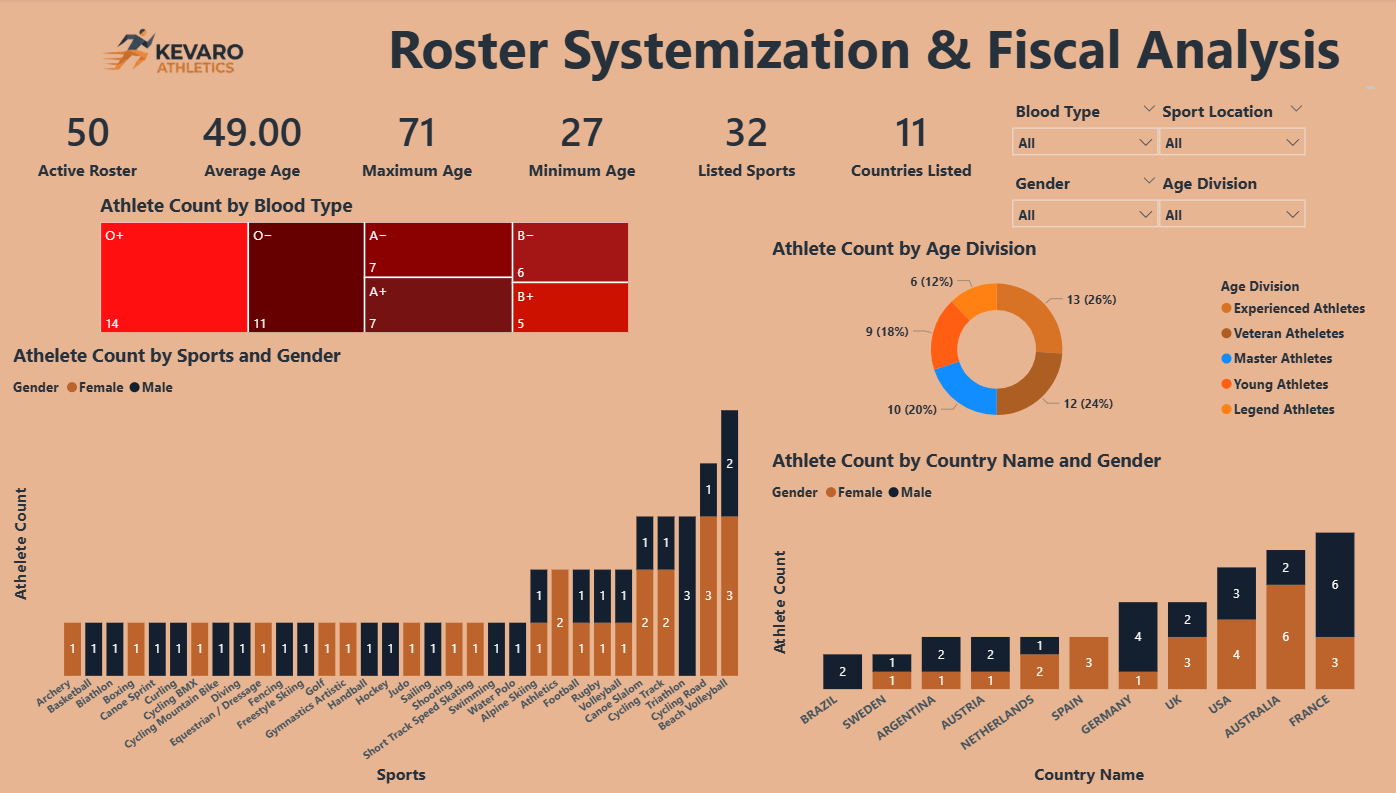

Layout of this report page (visuals, bound fields, positions):
{"tool":"powerbi","page":{"name":"Roster Insights","canvas":[1400,800],"ordinal":0},"visuals":[{"type":"textbox","title":"Roster Systemization & Fiscal Analysis","box":[349.4,14,1032.5,83.9],"z":0},{"type":"image","box":[15.7,14,333.7,83.9],"z":1000},{"type":"cardVisual","fields":{"Data":["CountNonNull(Member.MEMBER ID)","Avg(Table.AGE)","Max(Table.AGE)1","Min(Table.AGE)2","Count(Member.SPORTS)","Count(Member.COUNTRY NAME)"]},"box":[0,97.8,1004.6,92.6],"z":2000},{"type":"slicer","fields":{"Values":["Table.AGE DIVISION"]},"box":[1151.3,169.5,166,70],"z":3000},{"type":"slicer","fields":{"Values":["Member.GENDER"]},"box":[1004.6,169.5,166,70],"z":4000},{"type":"slicer","fields":{"Values":["Member.SPORT LOCATION"]},"box":[1151.3,97.8,166,70],"z":5000},{"type":"slicer","fields":{"Values":["Table.BLOOD TYPE"]},"box":[1004.6,97.8,166,70],"z":6000},{"type":"donutChart","fields":{"Category":["Table.AGE DIVISION"],"Y":["CountNonNull(Member.MEMBER ID)"]},"box":[768.7,239.4,613.2,202.7],"z":7000},{"type":"treemap","fields":{"Group":["Table.BLOOD TYPE"],"Values":["CountNonNull(Table.MEMBER ID)"]},"box":[96.1,195.2,539.2,145.7],"z":8000},{"type":"columnChart","fields":{"Category":["Table.SPORTS"],"Y":["CountNonNull(Table.MEMBER ID)"],"Series":["Table.GENDER"]},"box":[8.7,345.9,744.3,447.3],"z":9000},{"type":"columnChart","fields":{"Category":["Member.COUNTRY NAME"],"Y":["CountNonNull(Table.MEMBER ID)"],"Series":["Table.GENDER"]},"box":[768.7,450.8,613.2,342.4],"z":10000}]}

Visuals, with their boxes in screenshot pixels (x1, y1, x2, y2), scaled from the page's 1400x800 canvas onto the 1396x793 screenshot:
"Roster Systemization & Fiscal Analysis" textbox: 348 14 1378 97
image: 16 14 348 97
cardVisual - CountNonNull(Member.MEMBER ID) x Avg(Table.AGE): 0 97 1002 189
slicer - Table.AGE DIVISION: 1148 168 1314 237
slicer - Member.GENDER: 1002 168 1167 237
slicer - Member.SPORT LOCATION: 1148 97 1314 166
slicer - Table.BLOOD TYPE: 1002 97 1167 166
donutChart - Table.AGE DIVISION x CountNonNull(Member.MEMBER ID): 767 237 1378 438
treemap - Table.BLOOD TYPE x CountNonNull(Table.MEMBER ID): 96 193 633 338
columnChart - Table.SPORTS x CountNonNull(Table.MEMBER ID): 9 343 751 786
columnChart - Member.COUNTRY NAME x CountNonNull(Table.MEMBER ID): 767 447 1378 786
